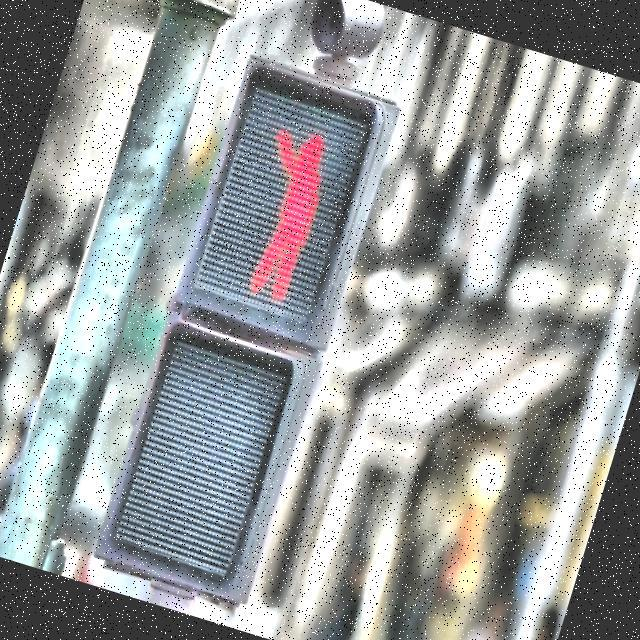red_light: (226, 111, 344, 309)
